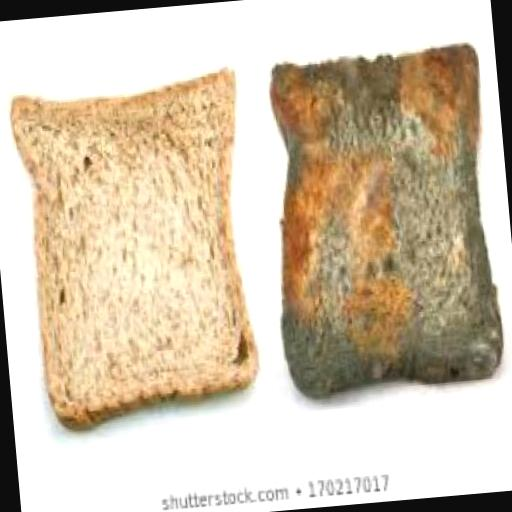biodegradable: (6, 63, 260, 432), (256, 42, 505, 400)
